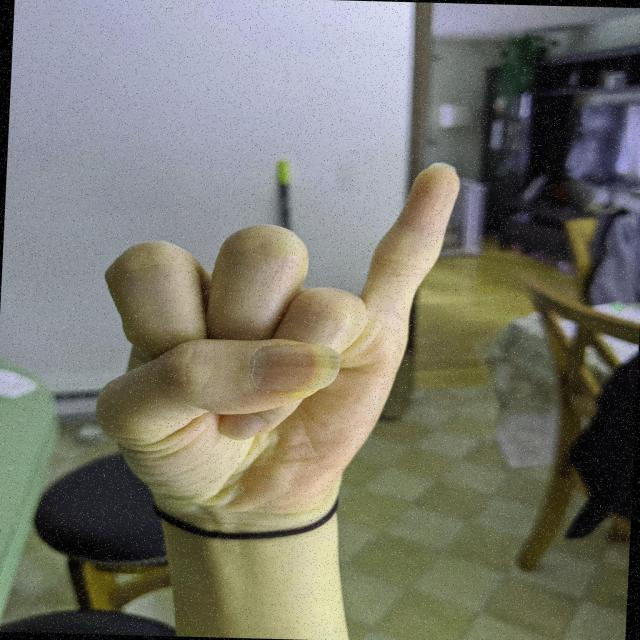I: (80, 149, 467, 528)
